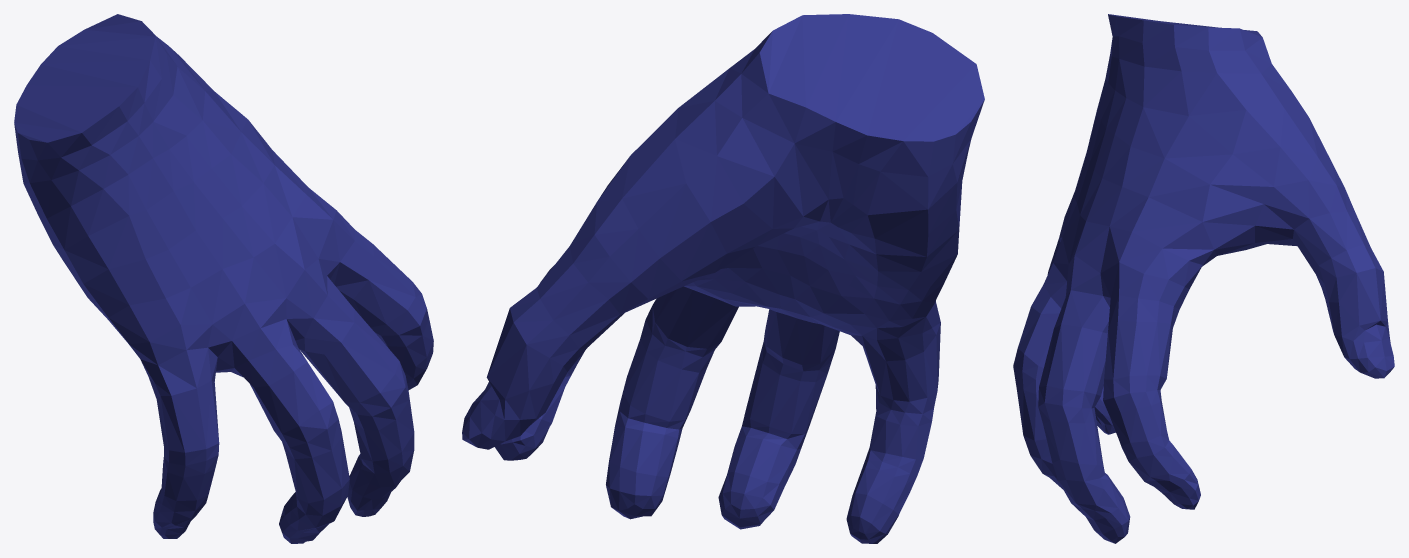
3 renders of one model, left to right at view 1: azimuth 30°, elevation 25°; view 2: azimuth 150°, elevation 25°; view 3: azimuth 270°, elevation 25°, orthographic. The views are drawn at different scales.
Size of the model in its own units: 0.1349 by 0.162 by 0.1274.
